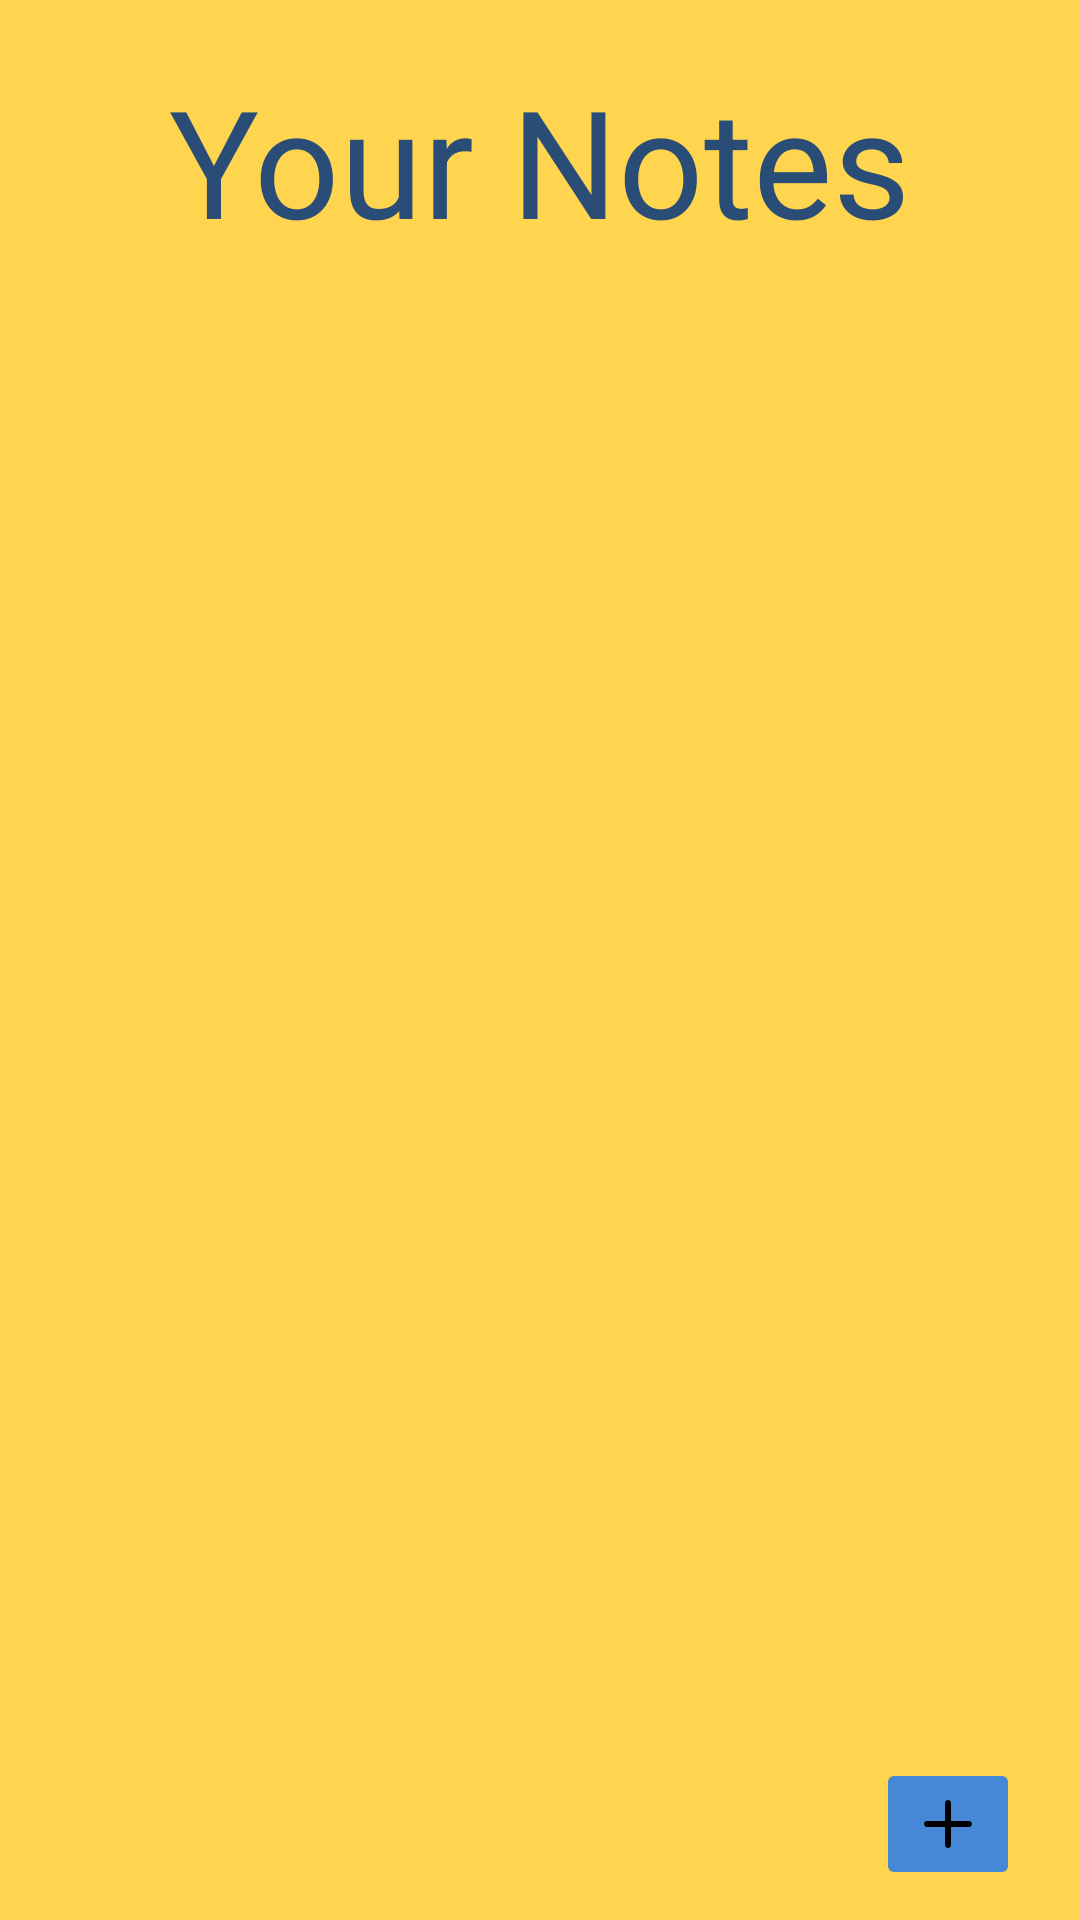

Icon click points for this 1080*1920 phone screenshot, format (x=x, y=y):
plus: (x=948, y=1824)
